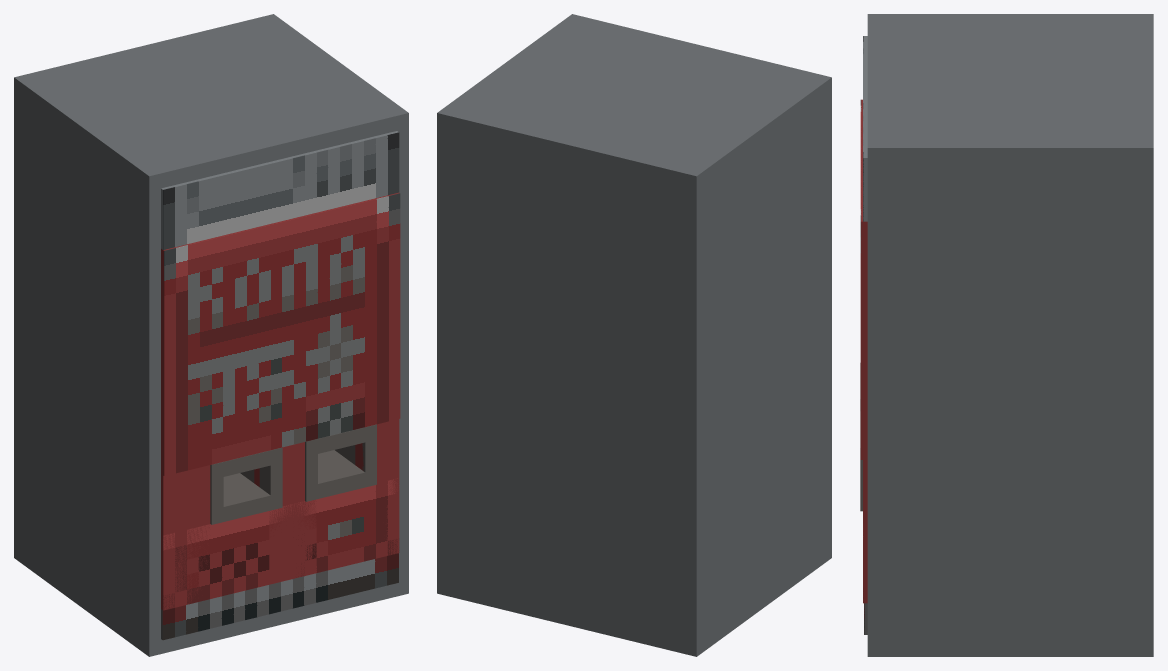
The model's file is CMU3DRMCVendorColaSPPInheritedMiscCloud.glb.
3 views of the same model, side by side, from view 1: azimuth 30°, elevation 25°; view 2: azimuth 150°, elevation 25°; view 3: azimuth 270°, elevation 25° (orthographic). The views are drawn at different scales.
Parts seen in each view (by area): view 1: full-depth left casing, upper red sign panel source detail, roof, lower red crossbar source detail, silver top control fascia source detail, silver bottom kickplate source detail, full-depth right casing, left lower red door, central red door upright, base, right lower red door, large pickup aperture surround bottom (+9 smaller); view 2: rear cabinet wall, full-depth left casing, roof, full-depth right casing; view 3: full-depth right casing, roof, rear cabinet wall, upper red sign panel, full-depth left casing, silver top control fascia, right lower red door.
Part boxes in pixels (<box>): full-depth left casing: <box>14,74,160,656</box>; upper red sign panel source detail: <box>164,193,400,475</box>; roof: <box>31,21,396,188</box>; lower red crossbar source detail: <box>163,478,399,610</box>; silver top control fascia source detail: <box>163,132,399,249</box>; silver bottom kickplate source detail: <box>162,553,398,640</box>; full-depth right casing: <box>262,14,408,596</box>; left lower red door: <box>161,465,210,610</box>; central red door upright: <box>254,442,316,584</box>; base: <box>161,583,396,653</box>; right lower red door: <box>355,419,399,555</box>; large pickup aperture surround bottom: <box>210,487,282,524</box>; rear cabinet wall: <box>449,110,691,653</box>; full-depth left casing: <box>685,74,831,656</box>; roof: <box>457,17,819,168</box>; full-depth right casing: <box>437,14,583,596</box>; full-depth right casing: <box>867,142,1153,656</box>; roof: <box>867,20,1142,141</box>; rear cabinet wall: <box>1137,20,1153,141</box>; upper red sign panel: <box>861,99,867,459</box>; full-depth left casing: <box>867,14,1153,19</box>; silver top control fascia: <box>863,36,867,221</box>; right lower red door: <box>863,460,867,603</box>.
Size of the model in its own units: 0.6875 by 1.22 by 0.636.
Materials: 10 (4 with a texture image).
